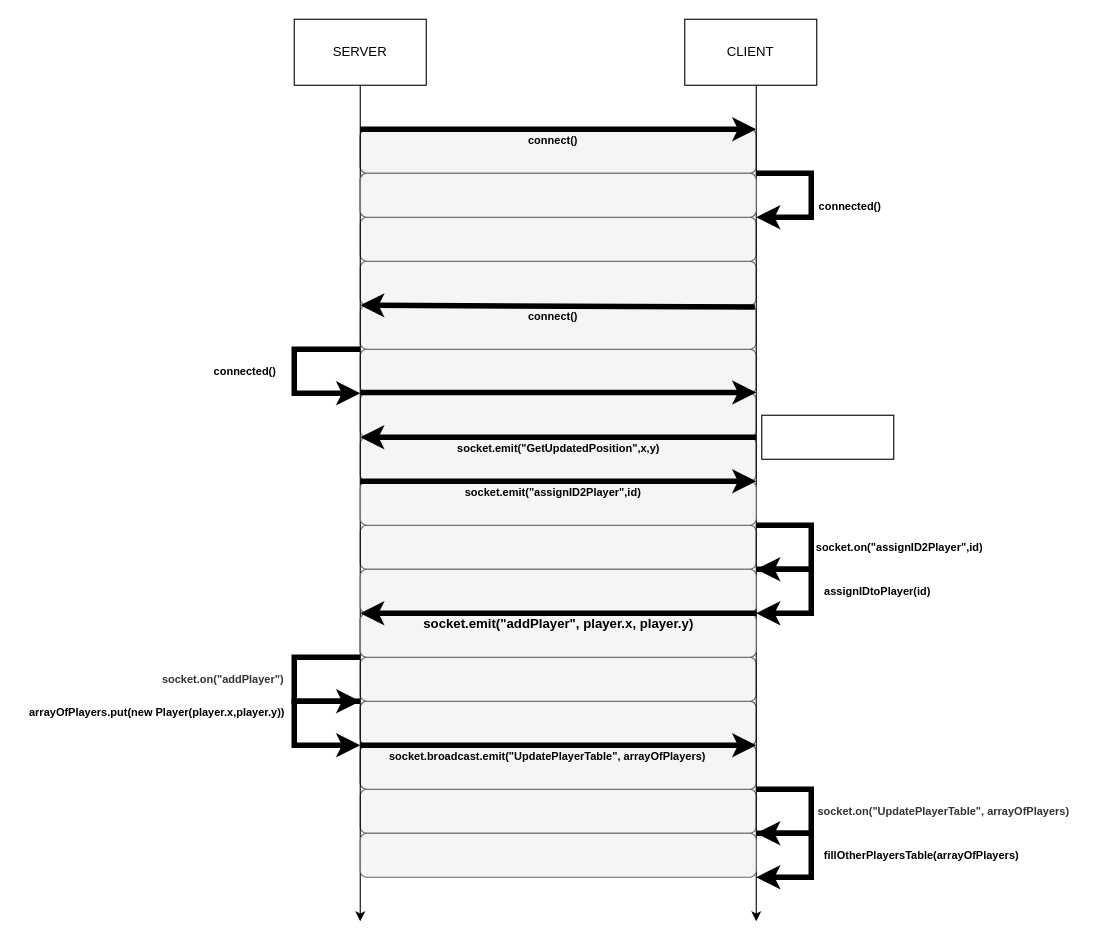
Some shapes in this 1093 by 949 pixel diagram are drawn without their labels. The shapes that lost their labels are listed below. From the top down, each one's centre as x and y in pixels, then its label:
pixel 557 414: io.broadcast("GetUpdatedPosition")
pixel 827 436: Every Client
